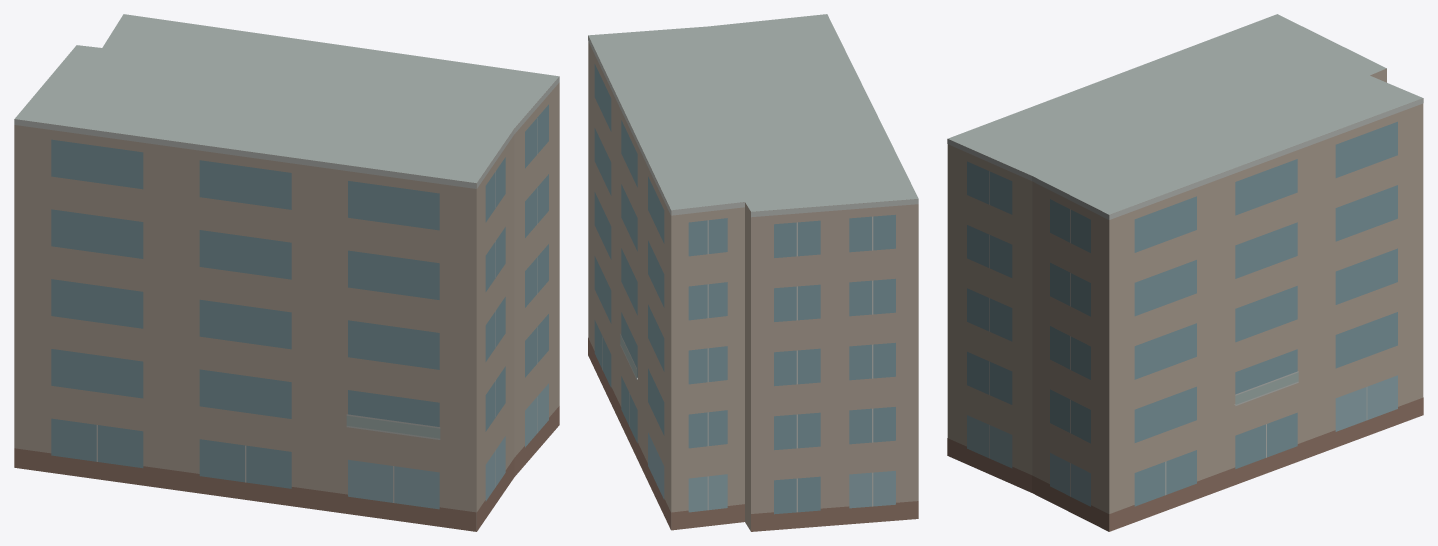
The model's file is survey-upis-32928107.glb.
3 renders of one model, left to right at view 1: azimuth 30°, elevation 25°; view 2: azimuth 150°, elevation 25°; view 3: azimuth 270°, elevation 25°, orthographic. The views are drawn at different scales.
Parts seen in each view (by area): view 1: survey-upis-32928107.tmp; view 2: survey-upis-32928107.tmp; view 3: survey-upis-32928107.tmp.
Part boxes in pixels (x1,y1,x2,y2): survey-upis-32928107.tmp: (14,14,559,531); survey-upis-32928107.tmp: (588,14,918,531); survey-upis-32928107.tmp: (947,14,1423,531).
Size of the model in its own units: 19.7 by 14.5 by 19.73.
